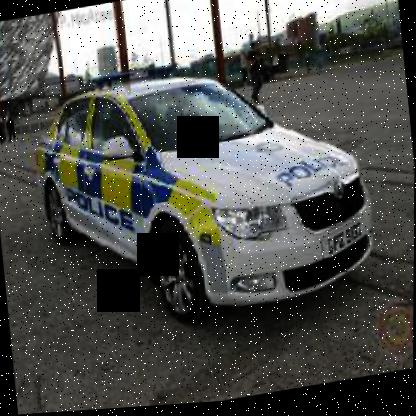emergency: (23, 26, 412, 394)
